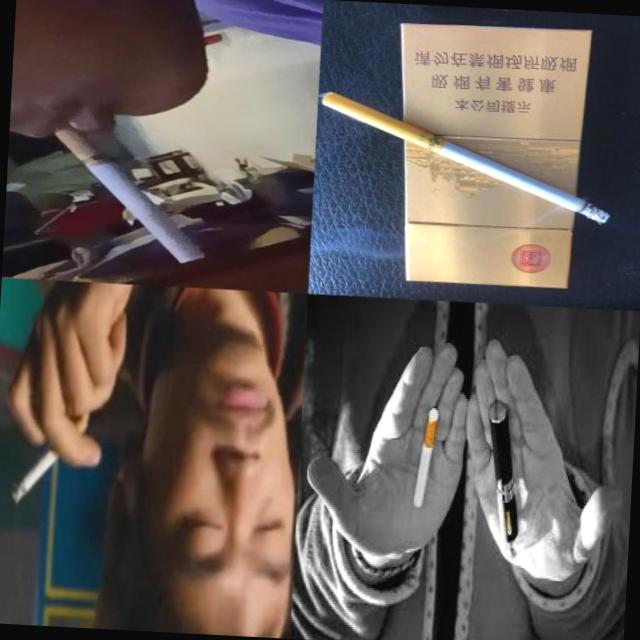cigarette: (316, 92, 616, 225), (46, 126, 214, 268), (9, 413, 85, 509), (413, 406, 440, 512)
